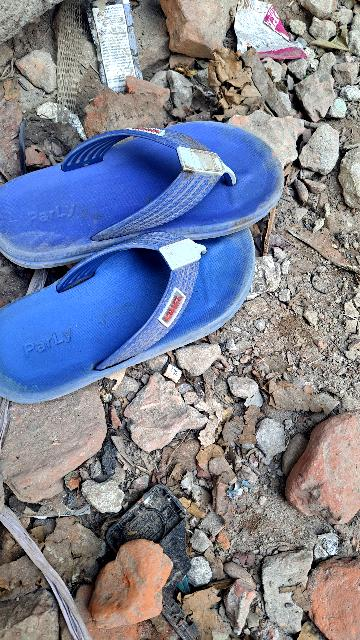sandal: (0, 194, 272, 409), (0, 98, 300, 274)
